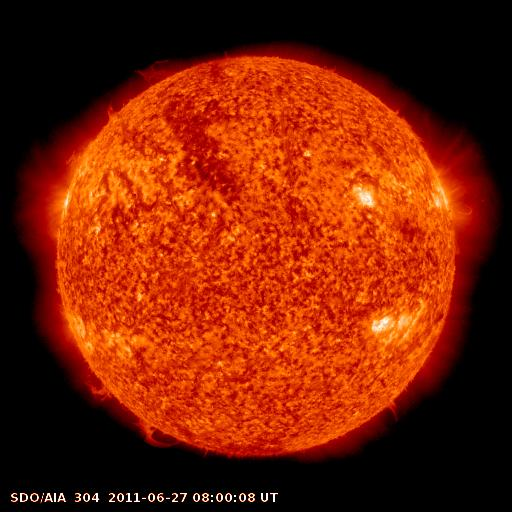prominence: (97, 56, 192, 127), (128, 405, 187, 452), (82, 366, 125, 408), (58, 139, 100, 176), (379, 392, 408, 427)
